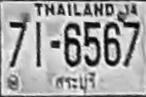1: (35, 22, 41, 66)
5: (84, 21, 100, 66)
6: (103, 21, 120, 65), (63, 22, 80, 66)
7: (8, 21, 29, 66), (122, 21, 139, 66)
SRI: (50, 70, 99, 95)
